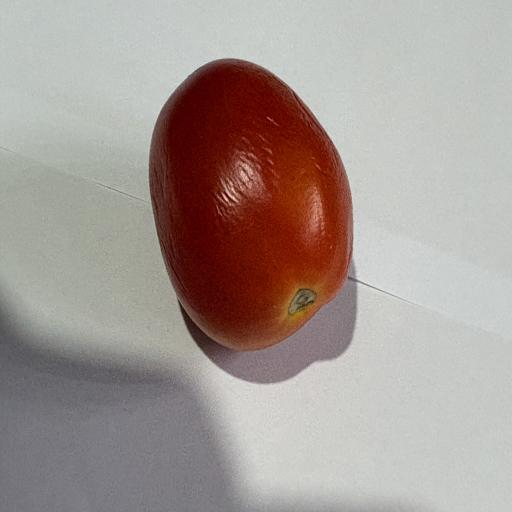spoiled: (149, 59, 353, 350)
